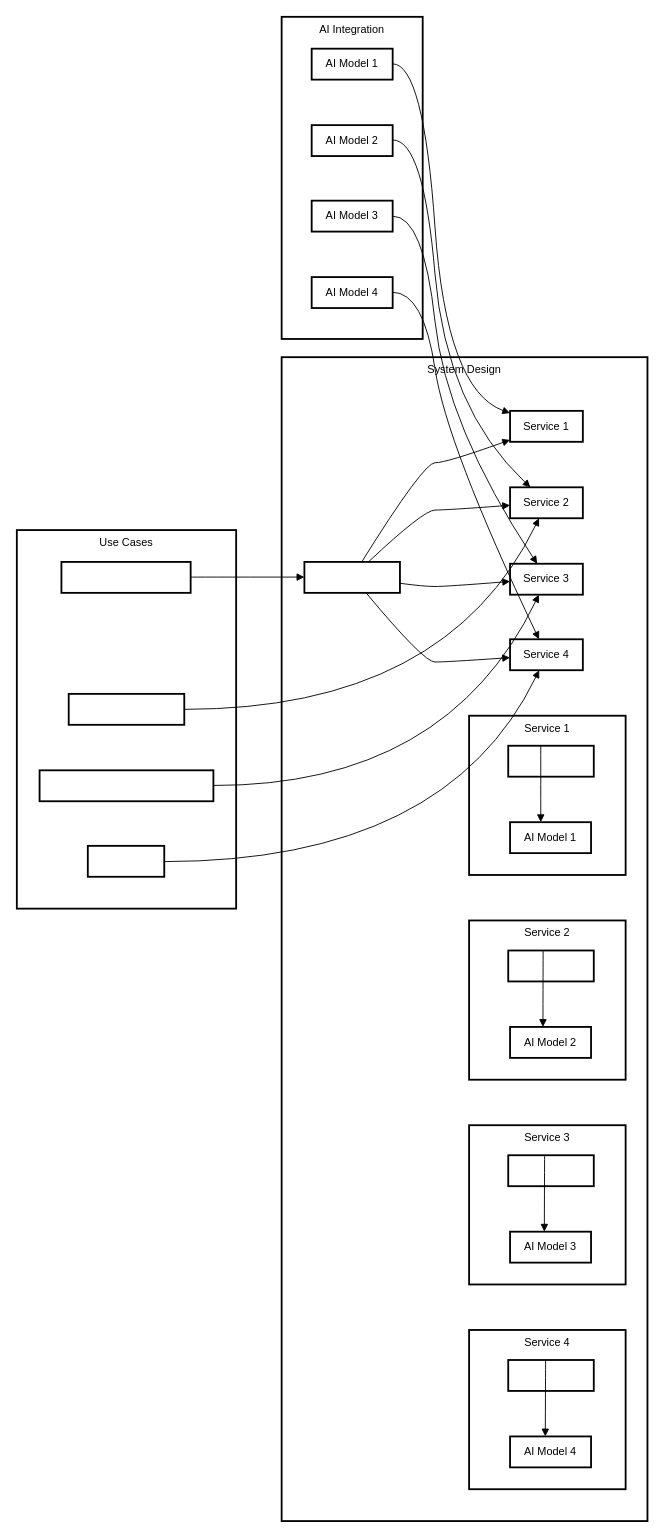
Some shapes in this 663 by 1537 pixel diagram are drawn without their labels. Each missing label, with the centre of its shape:
API Gateway: [351,577]
Data Processing: [126,709]
Database 1: [550,760]
Database 2: [550,965]
Database 3: [550,1170]
Database 4: [550,1375]
Recommendation Engine: [126,785]
Reporting: [125,860]
User Management: [125,577]
